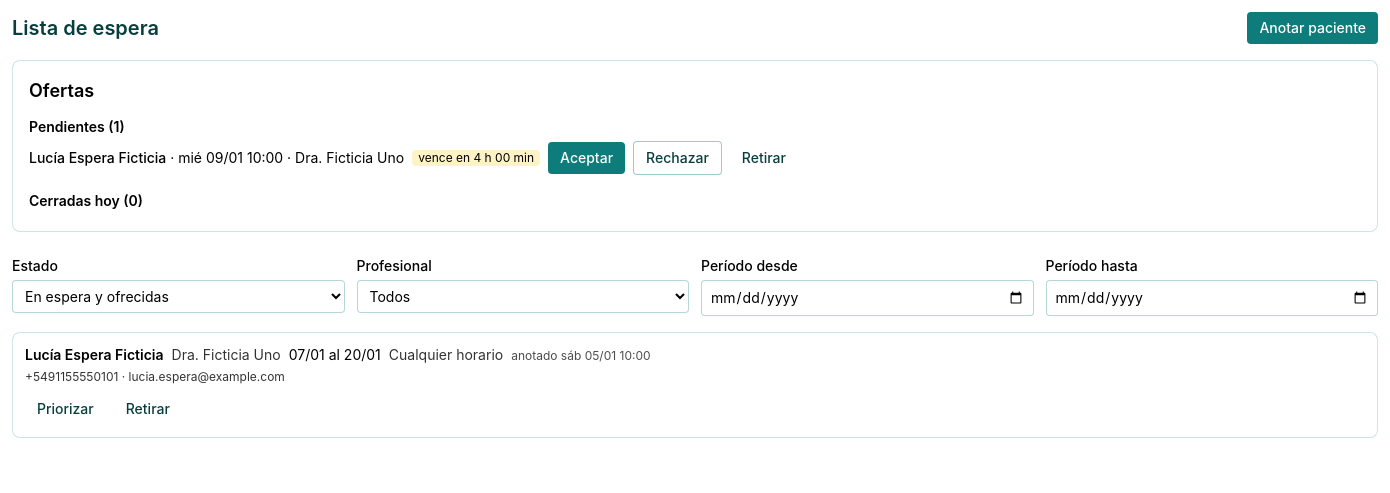
Test: OffersPanel › aceptar por teléfono muestra el turno creado y el acceso a la agenda
The width and height of the screenshot is (1390, 493).
Click the button with aria-label "Aceptar por teléfono la oferta de Lucía Espera Ficticia". click: (587, 158)
box: [548,142,625,174]
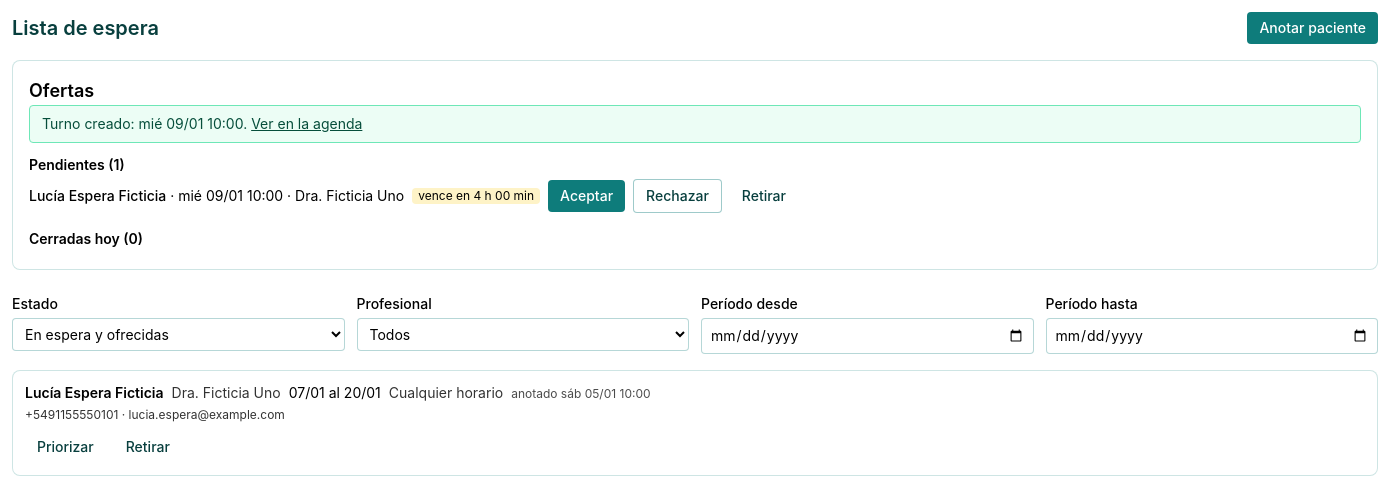
Expected: the message shows "Turno creado: mié 09/01 10:00", [29,105,1361,143]
